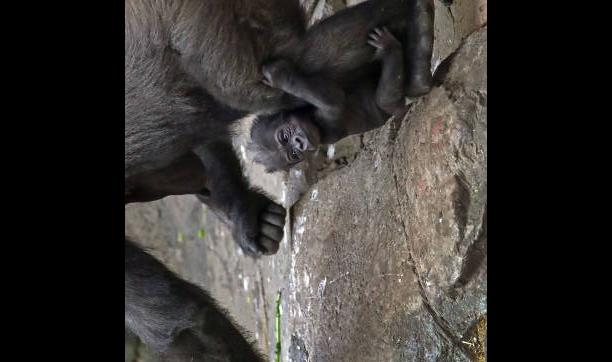gorille_Autres: (230, 0, 441, 194)
